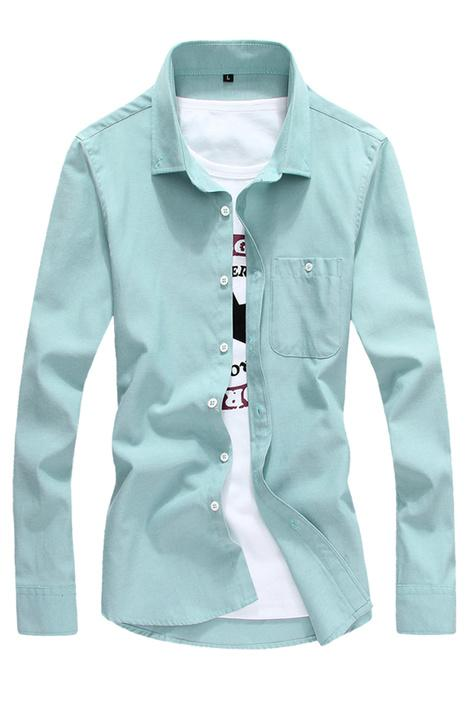C_shirt: (14, 42, 456, 649)
